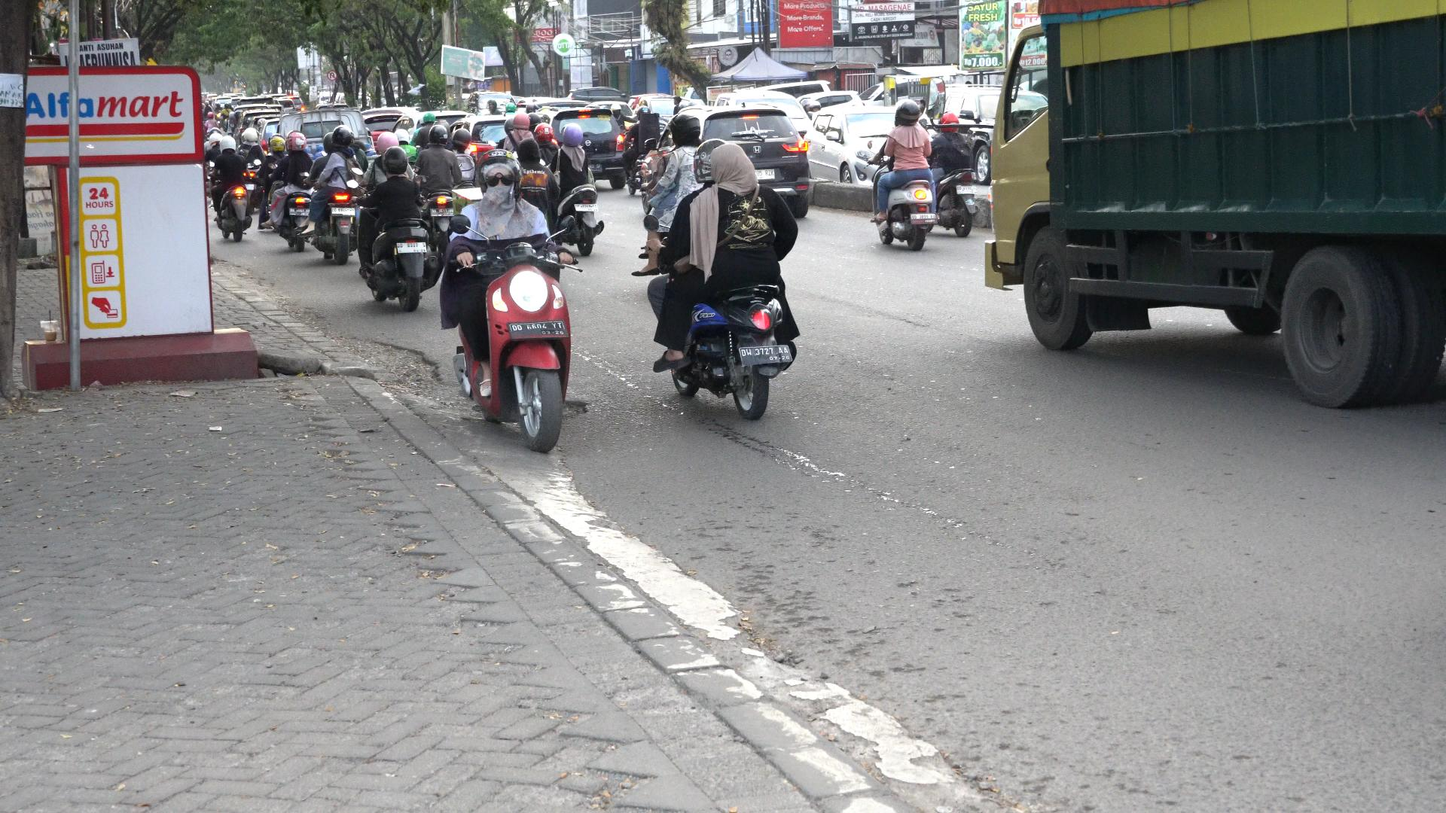number-plate: (508, 316, 572, 343)
